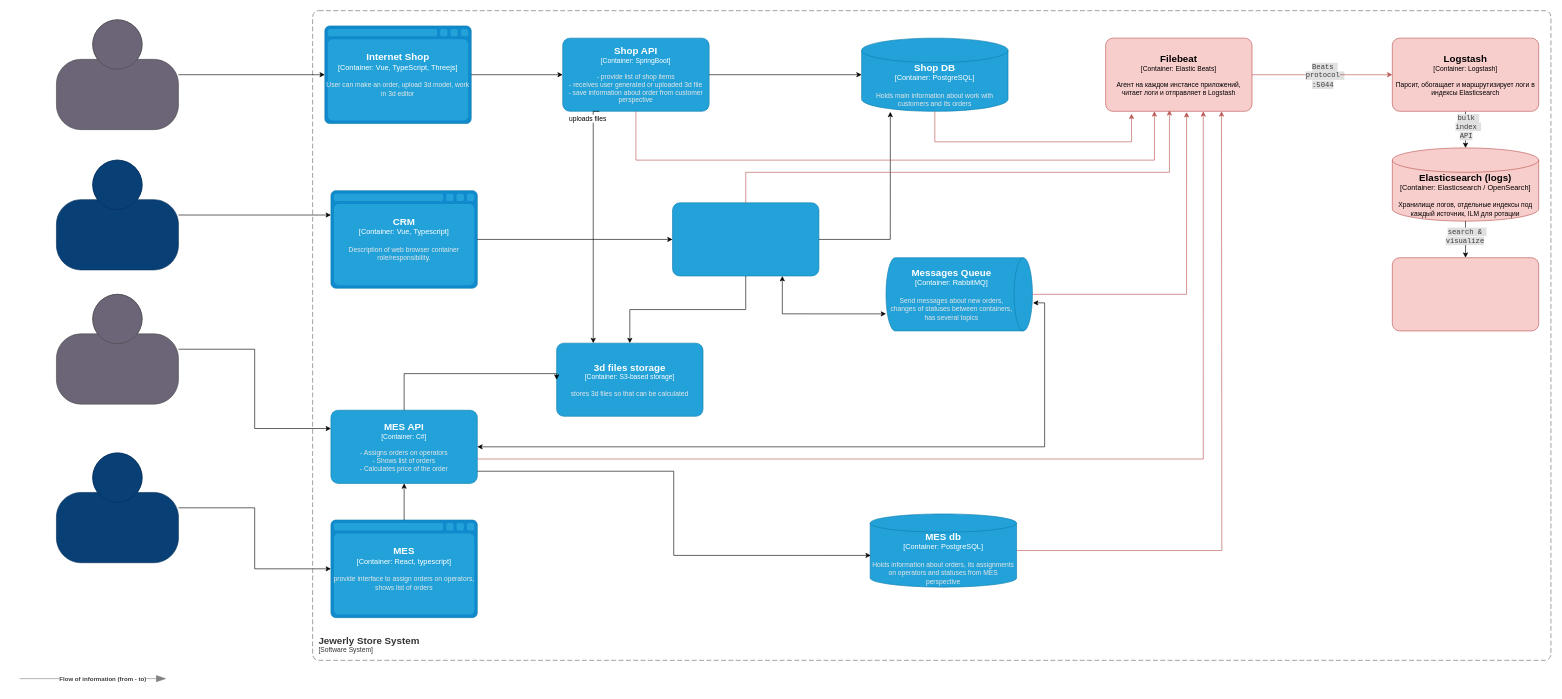
Some shapes in this 1562 by 699 pixel diagram are drawn without their labels. The shapes that lost their labels are listed below. From the top down, each one's centre as x and y in pixels, then its label:
(117,74): Customer [Person] Description of external person.
(117,215): Seller [Person] Operates with order, confirms manufacturing for the user
(745,239): CRM API [Container: SpringBoot] Description of container role/responsibility.
(1465,294): Kibana [Container: Kibana] UI для поиска по логам, дашборды, алёрты
(117,349): API user [Person] Description of external person.
(117,507): Operator [Person] Takes order in work, manufactures jewerly
